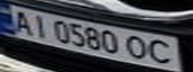0: (48, 17, 72, 45), (100, 28, 121, 56)
5: (66, 21, 87, 48)
8: (81, 24, 103, 53)
A: (9, 8, 36, 35)
C: (145, 37, 181, 66)
I: (27, 12, 54, 38)
O: (124, 34, 151, 62)
